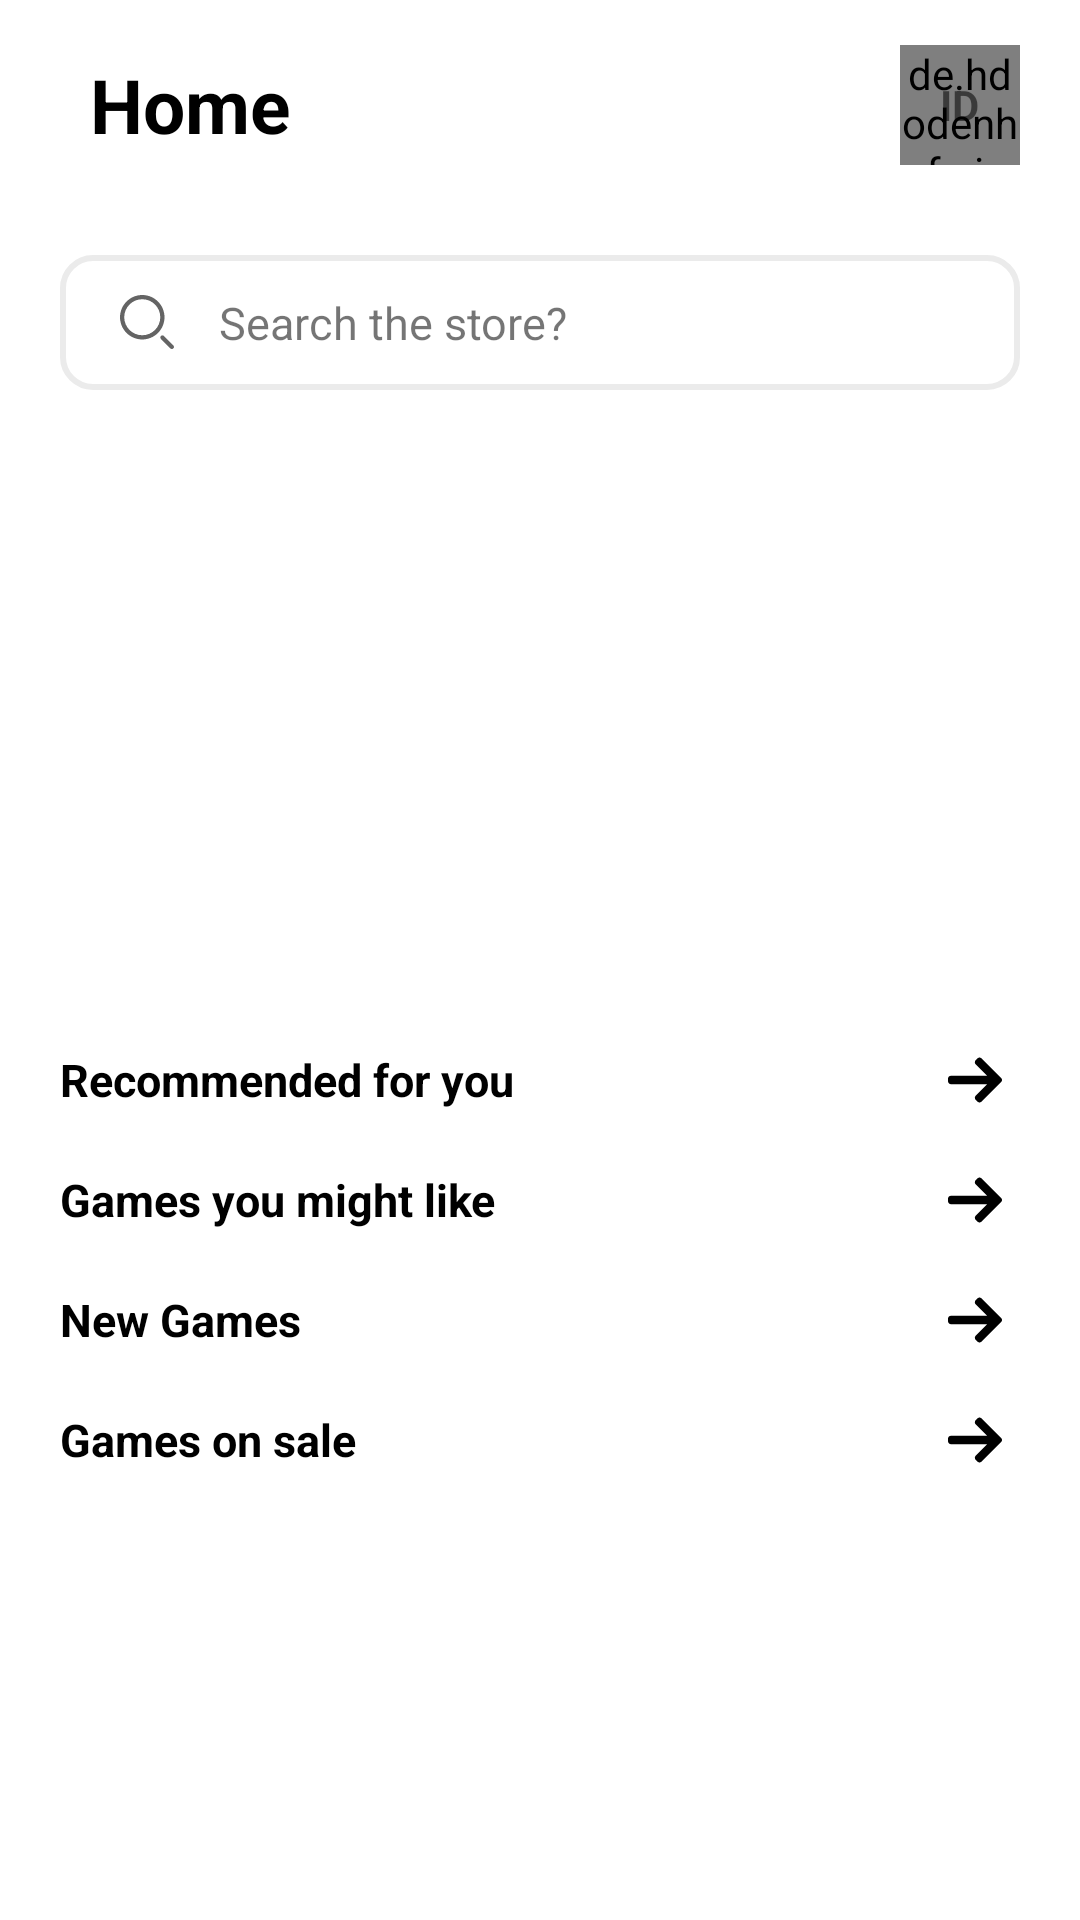

Where icons sit on this 1080x1920 app screen, as (x1, y1, x2, y2):
right arrow: (948, 1057, 1002, 1103), (948, 1177, 1002, 1223), (948, 1297, 1002, 1343), (948, 1417, 1002, 1463)
